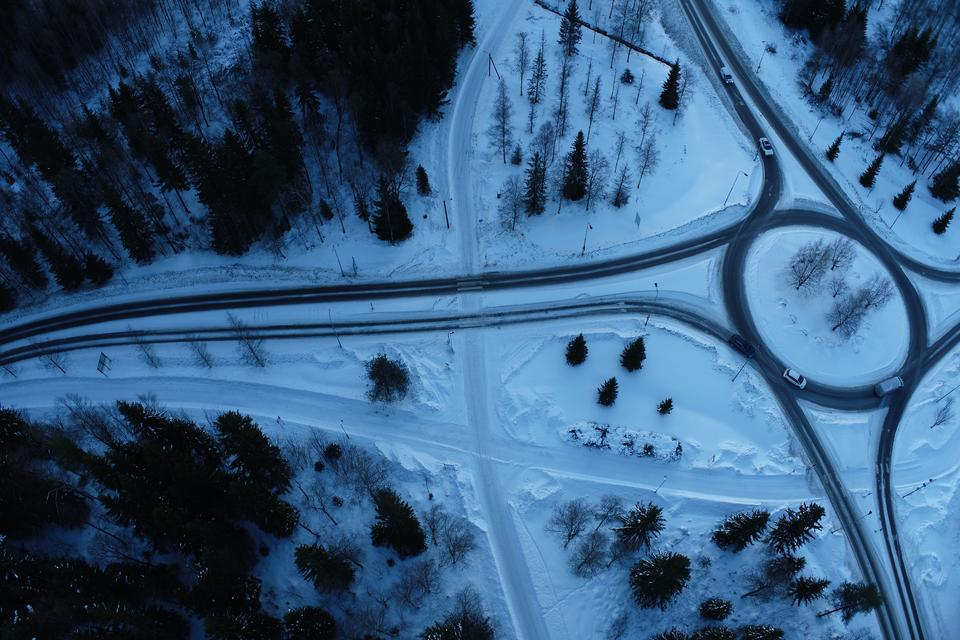intersection: (779, 453, 921, 505), (444, 265, 496, 341)
roundabout: (705, 192, 945, 419)
